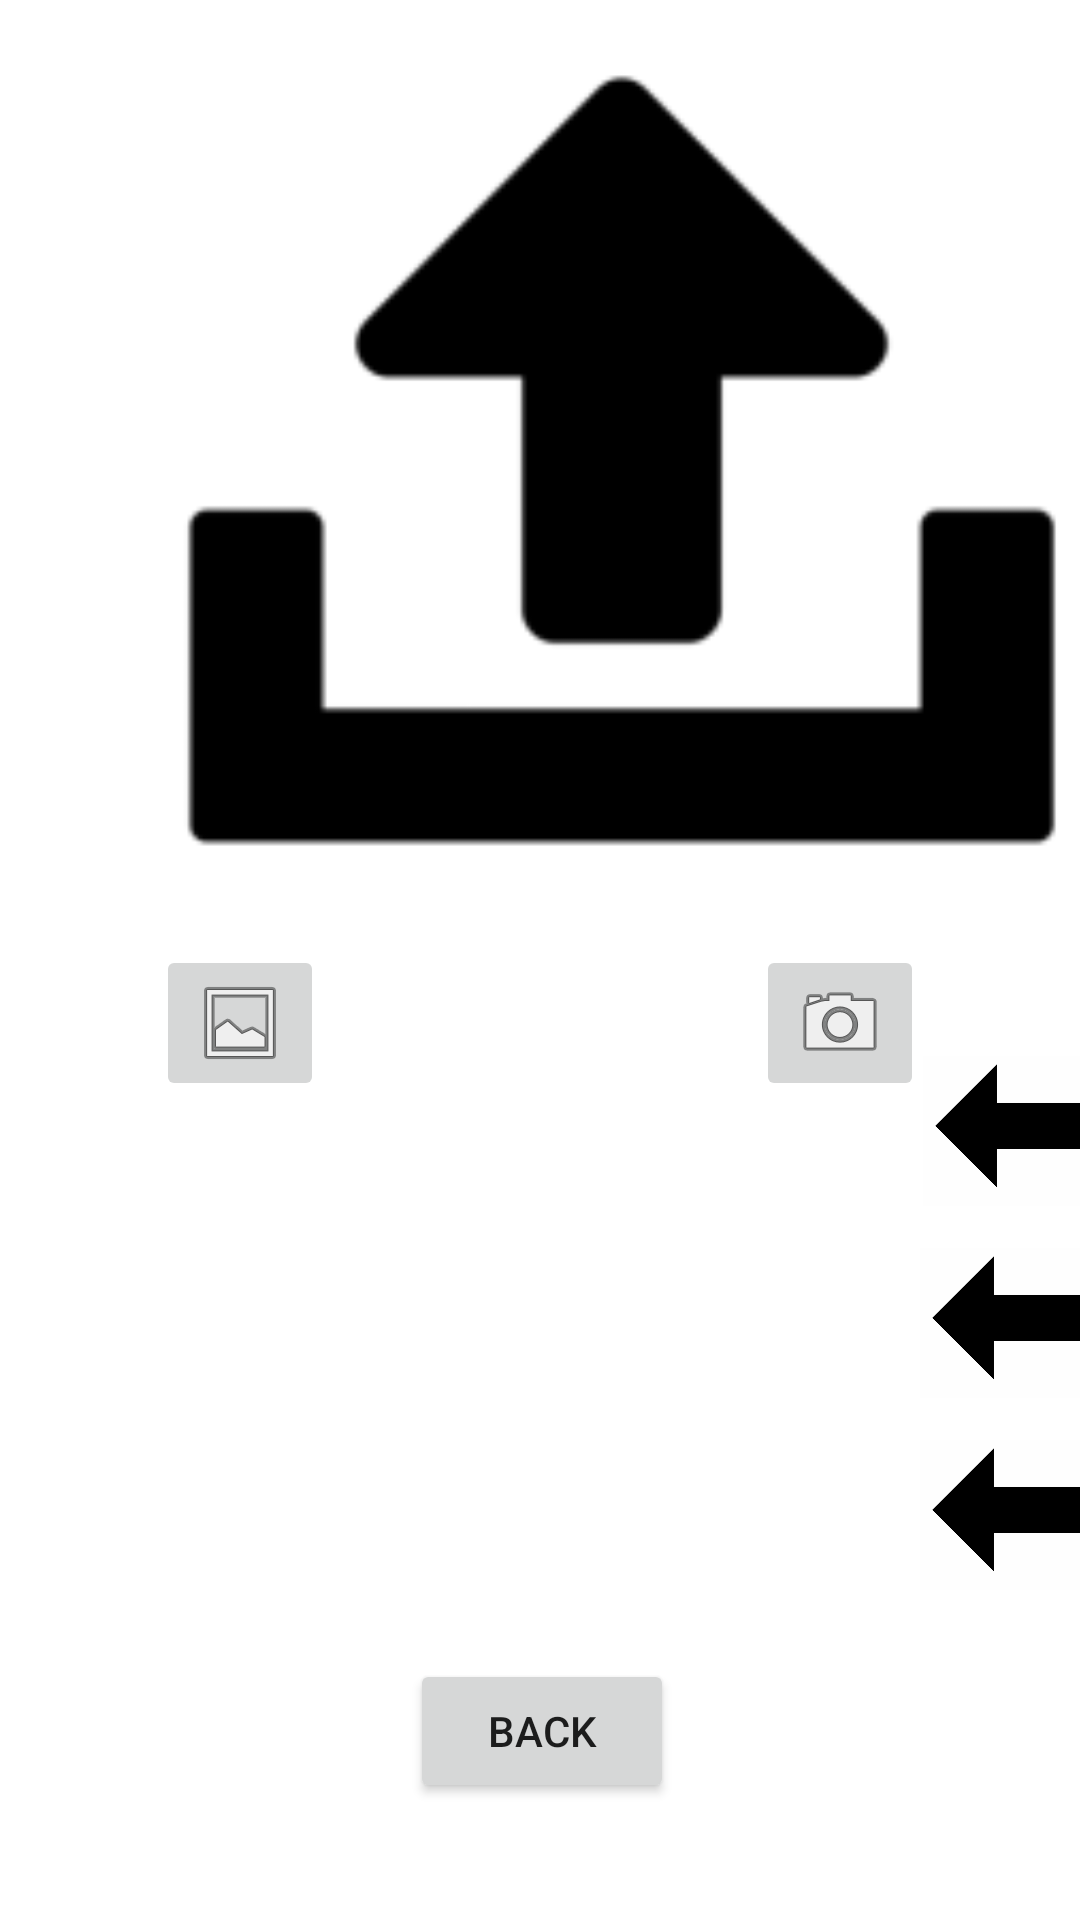

Icon click points for this 1080px×1920px phone screenshot, format (x=x, y=y):
Camera: (x=840, y=1023)
Gallery: (x=240, y=1023)
